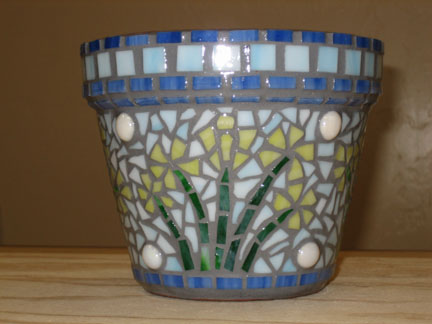flowerpot: (80, 31, 388, 302)
